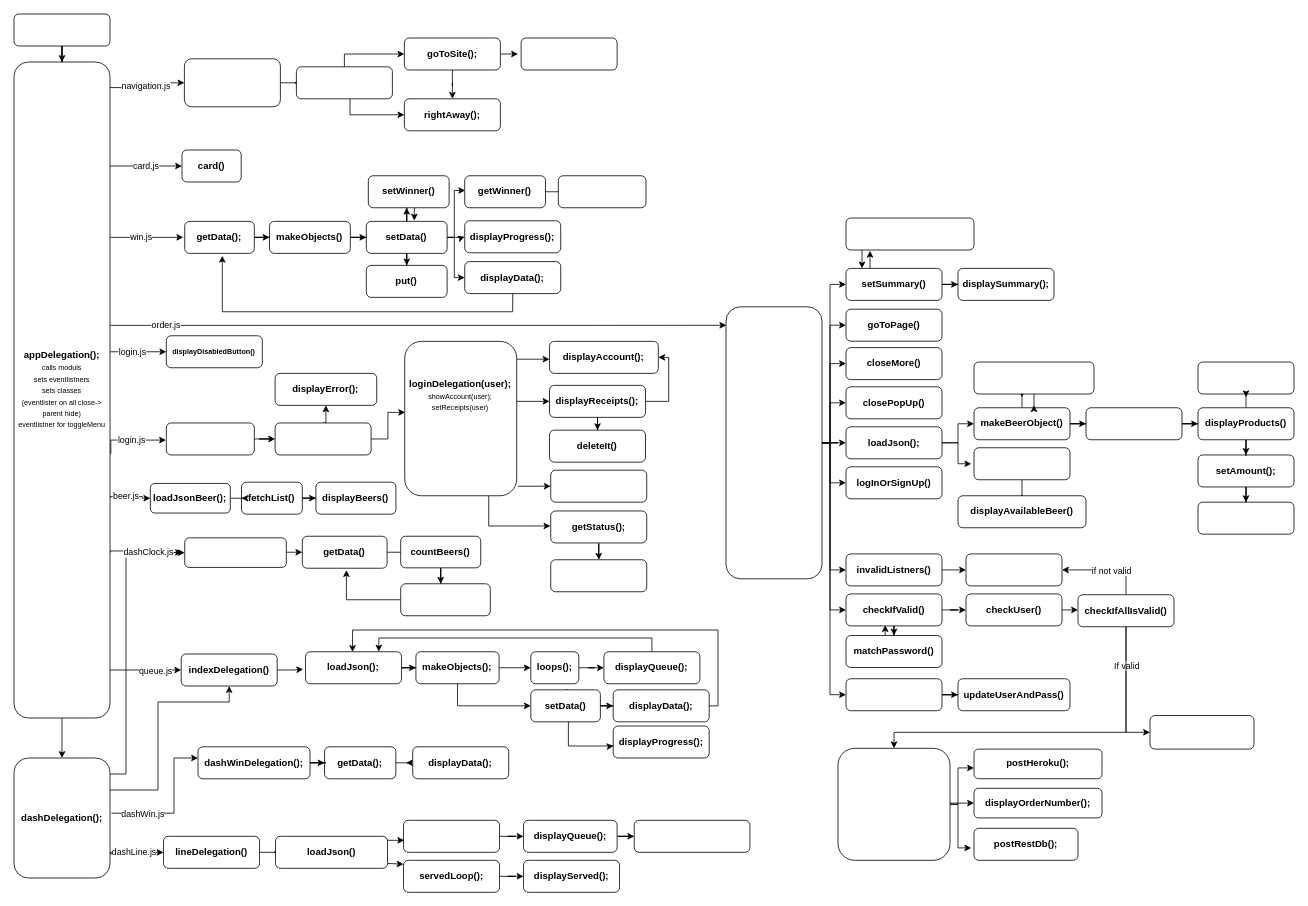
The diagram is 1308 pixels wide and 906 high, and some of its shapes have lost their labels. Here are the shapes that lost their labels. From the top down, the centre of each, then its label:
the point at 61,29: DOMContentLoaded
the point at 568,53: shrink()
the point at 232,82: toggleMenu(); toggles slide
the point at 344,82: links()
the point at 602,191: displayWinner();
the point at 909,233: createHerokuObject();
the point at 1033,377: makeAmountObject()
the point at 1245,377: displayReadMore();
the point at 210,438: getUser(); restDB
the point at 322,438: checkIfValid();
the point at 773,442: cartDelegation();
the point at 1133,423: fetchProducts()
the point at 1021,463: checkAvailability()
the point at 598,485: logOut();
the point at 1245,517: displayAmount();
the point at 235,552: closkDelegation()
the point at 1013,569: setInvalid()
the point at 598,575: displayStatus();
the point at 445,599: displayMinutes()
the point at 893,694: displayPayment()
the point at 1201,732: displayThankYou();
the point at 893,804: payDelegation();
the point at 451,836: queueLoops();
the point at 691,836: displayLatestQueue();
